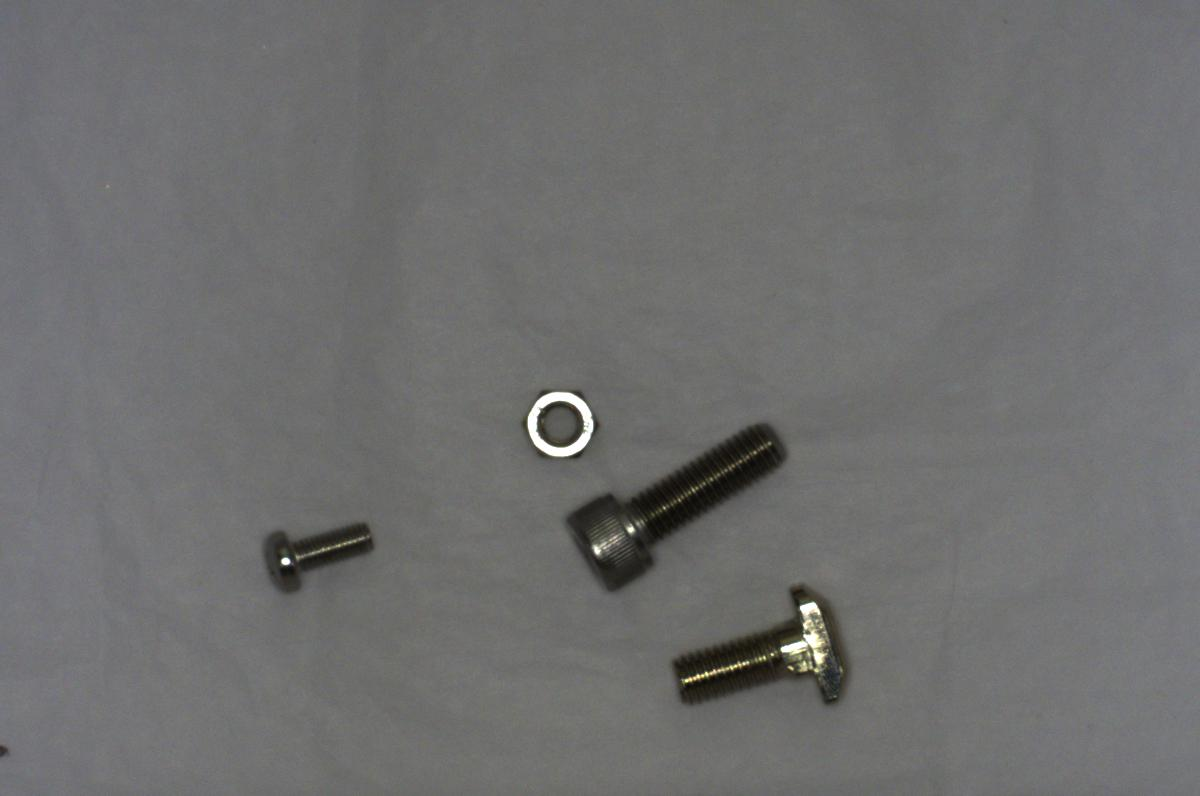Hexagon nut: (508, 379, 608, 473)
Hexagon screw: (559, 412, 791, 603)
Round head screw: (254, 509, 381, 594)
T-shaped screw: (659, 581, 852, 712)
